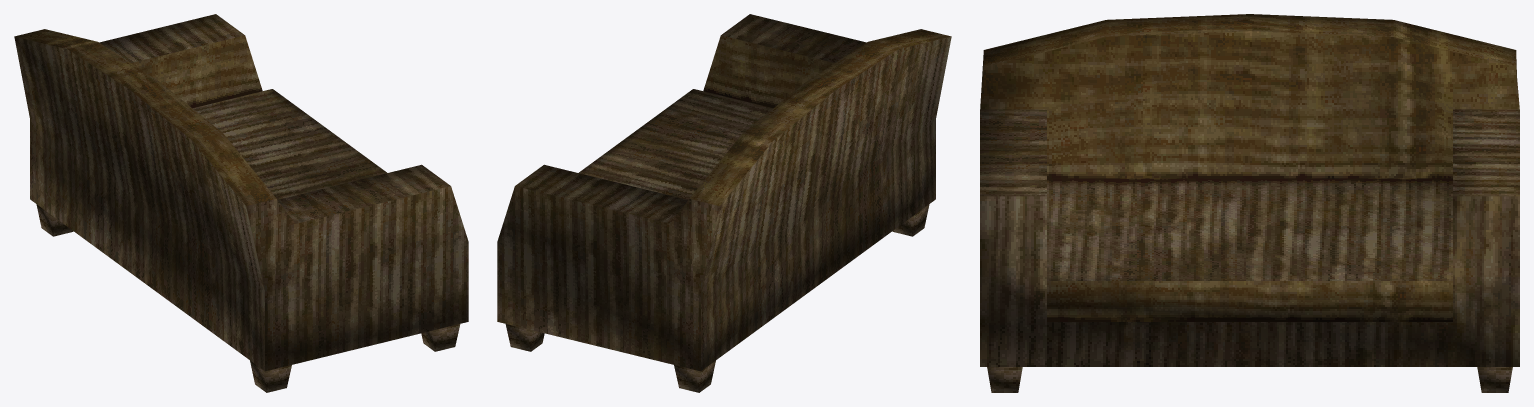
File: couch.glb
3 views of the same model, side by side, from view 1: azimuth 30°, elevation 25°; view 2: azimuth 150°, elevation 25°; view 3: azimuth 270°, elevation 25° (orthographic). The views are drawn at different scales.
Parts seen in each view (by area): view 1: Couch; view 2: Couch; view 3: Couch.
Boxes of the visible parts, <box> form: Couch: <box>14,14,468,392</box>; Couch: <box>497,14,951,392</box>; Couch: <box>980,14,1519,392</box>.
Size of the model in its own units: 0.9072 by 0.8504 by 1.6.
Materials: 1 (1 with a texture image).
